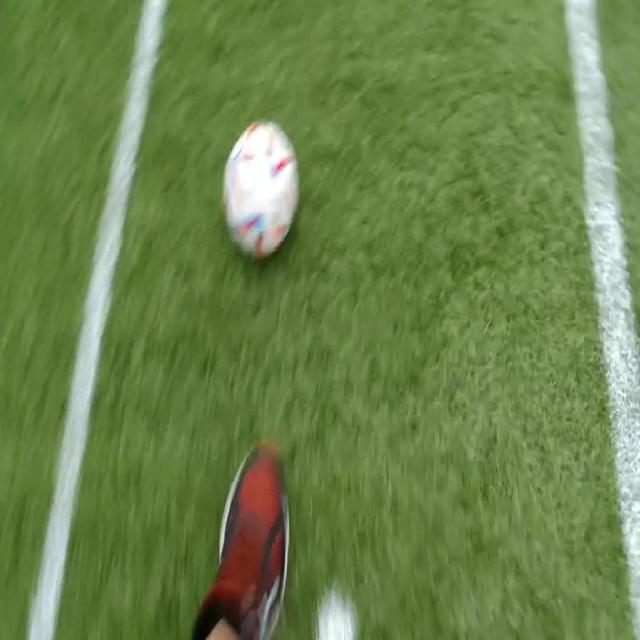ball: (222, 122, 298, 256)
